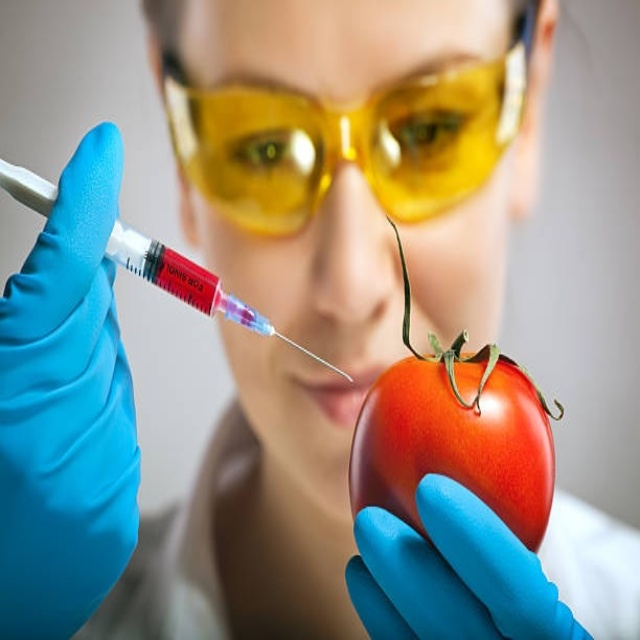Gafas: (157, 3, 541, 237)
Guantes: (1, 123, 142, 640), (344, 472, 598, 637)
Sin_mascara: (288, 361, 391, 427)
